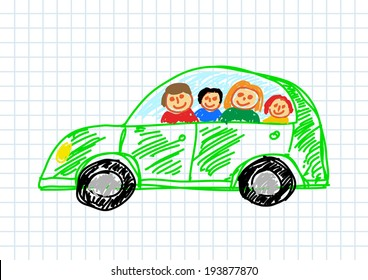car: (37, 64, 332, 212)
